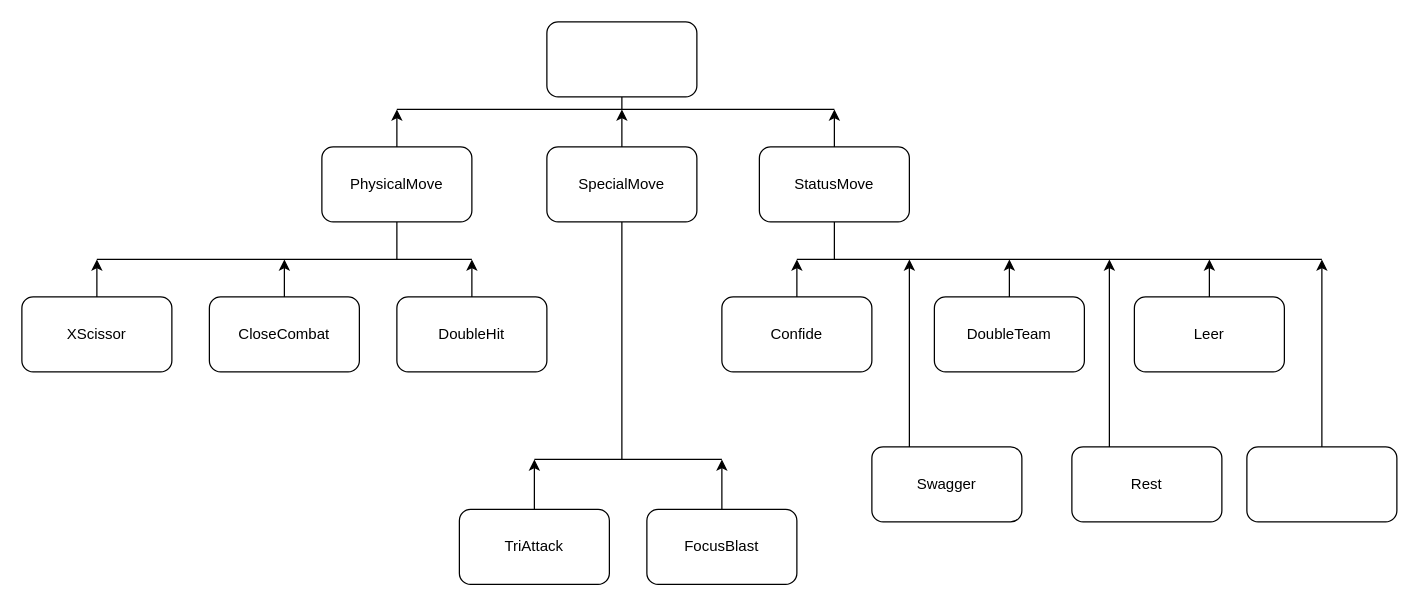
The diagram is 1419 pixels wide and 606 high, and some of its shapes have lost their labels. Here are the shapes that lost their labels. From the top down, the centre of each, then its label:
At point 621,59: "Move".
At point 1321,484: "ThunderWave".
